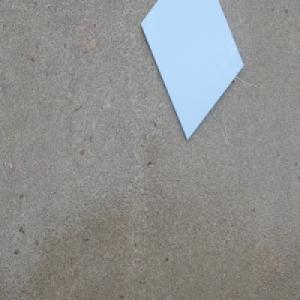PaintChip: (140, 0, 245, 142)
